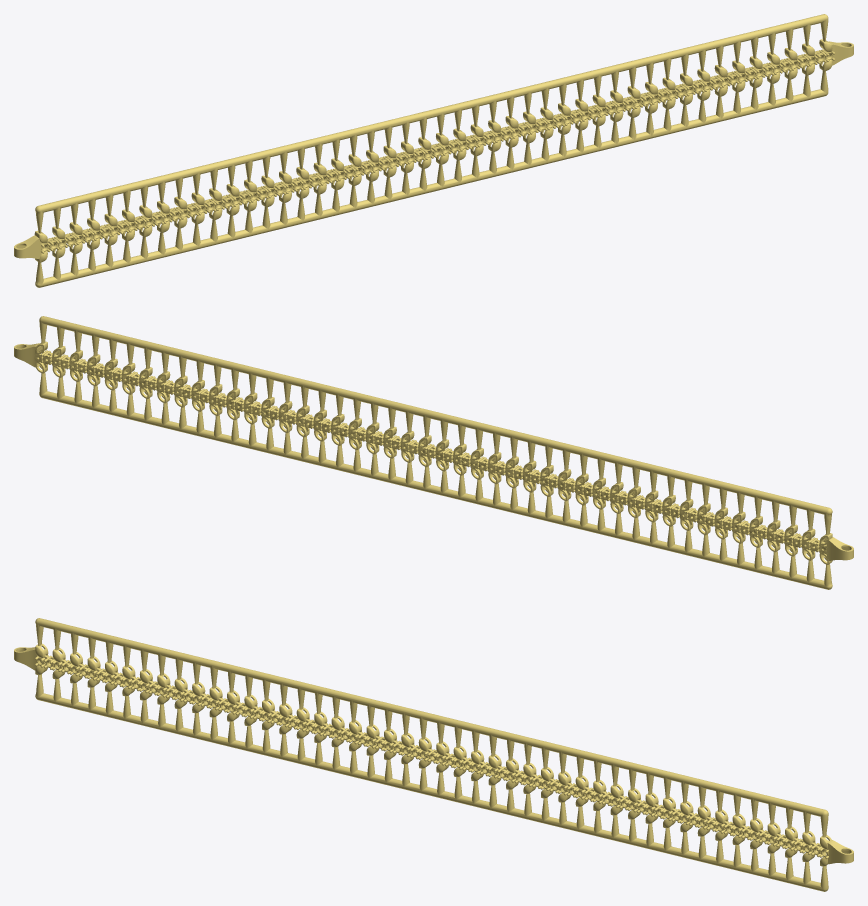
File: yzn5-90_1.glb
3 views of the same model, one above another, from view 1: azimuth 30°, elevation 25°; view 2: azimuth 150°, elevation 25°; view 3: azimuth 330°, elevation 25° (orthographic).
Visible parts, largest first — view 1: Renderer Node; view 2: Renderer Node; view 3: Renderer Node.
Boxes of the visible parts, <box> form: Renderer Node: <box>14,14,853,287</box>; Renderer Node: <box>14,316,853,589</box>; Renderer Node: <box>14,618,853,891</box>.
Size of the model in its own units: 183 by 16.95 by 2.89.
